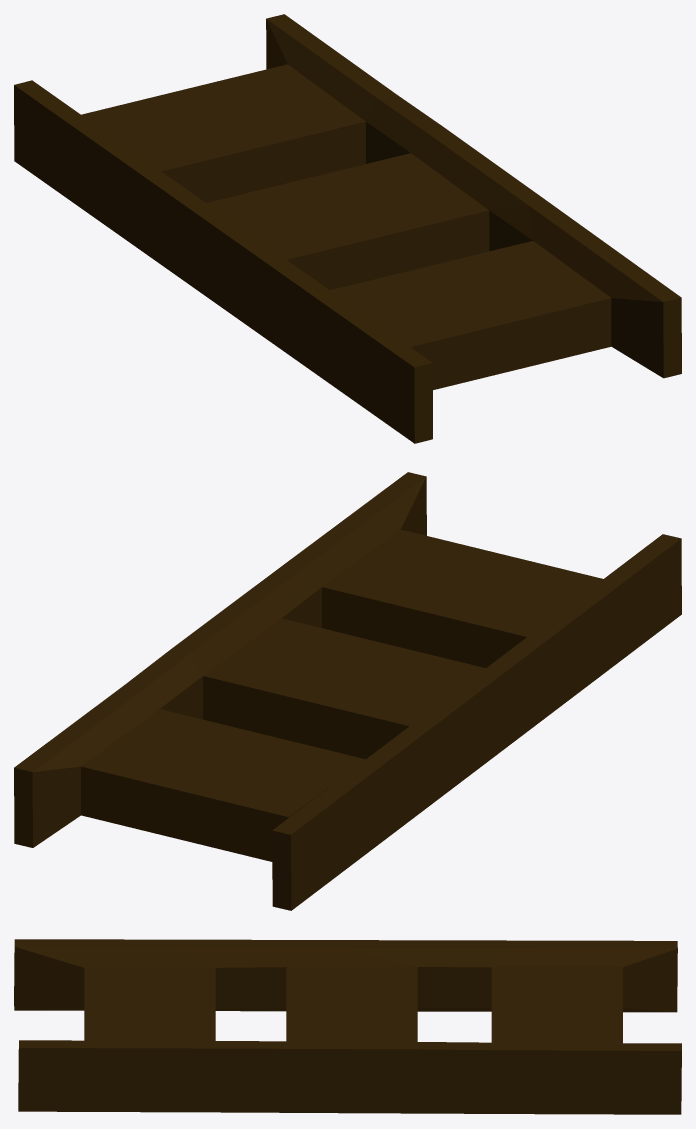
File: Bridge.fbx
3 views of the same model, one above another, from view 1: azimuth 30°, elevation 25°; view 2: azimuth 150°, elevation 25°; view 3: azimuth 270°, elevation 25° (orthographic). The views are drawn at different scales.
Parts seen in each view (by area): view 1: Bridge; view 2: Bridge; view 3: Bridge.
Boxes of the visible parts, bbox=[...] form: Bridge: bbox=[14, 14, 681, 443]; Bridge: bbox=[14, 472, 681, 910]; Bridge: bbox=[14, 939, 681, 1114].
Bounding box in the file's own units: 123 × 35.36 × 307.
